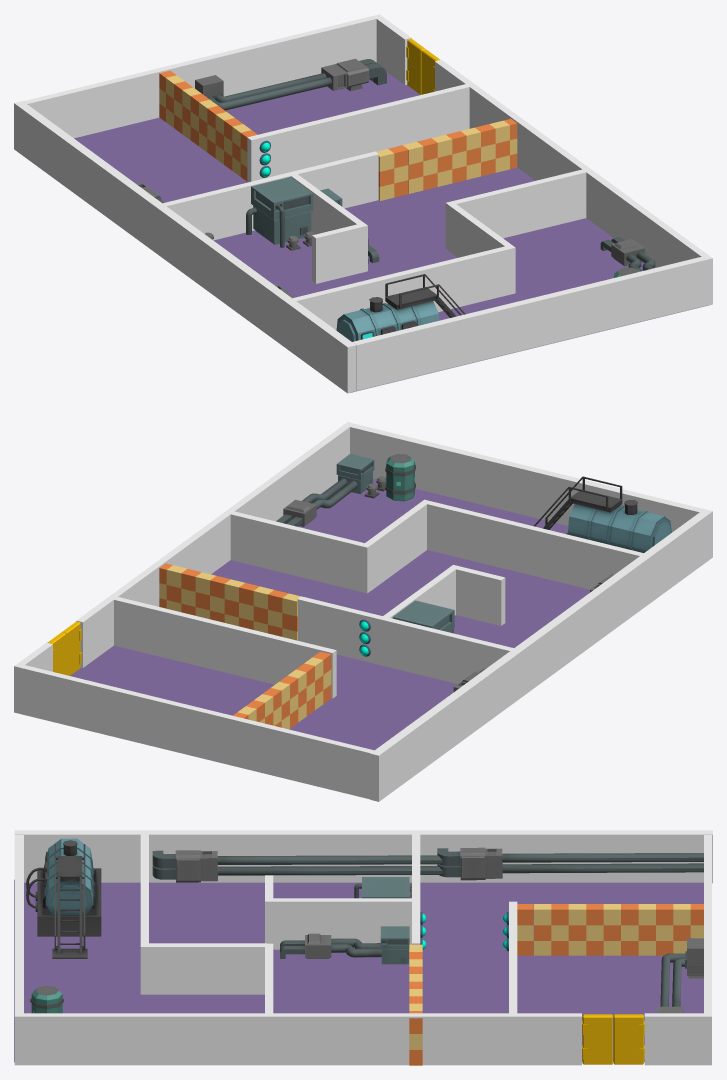
Rendered from maps_41.fbx.
The picture shows the model from 3 angles, top to bottom: view 1: azimuth 30°, elevation 25°; view 2: azimuth 150°, elevation 25°; view 3: azimuth 270°, elevation 25°; orthographic projection. The views are drawn at different scales.
Visible parts, largest first — view 1: wall_01_08_geo, wall_01_07_geo, wall_01_05_geo, wall_01_09_geo, wall_01_09_geo6, wall_01_06_geo, wall_01_09_geo3, wall_01_09_geo4, wall_01_09_geo8, tankwater_geo, generatorStation_03_geo1, generatorStation_05_geo (+6 smaller); view 2: wall_01_08_geo, wall_01_07_geo, wall_01_09_geo, wall_01_05_geo, wall_01_06_geo, wall_01_09_geo6, wall_01_09_geo3, wall_01_09_geo4, wall_01_09_geo8, tankwater_geo, wall_01_11_geo8, generatorStation_04_geo (+6 smaller); view 3: wall_01_08_geo, wall_01_06_geo, wall_01_07_geo, tankwater_geo, wall_01_11_geo8, generatorStation_03_geo3, generatorStation_03_geo2, wall_01_11_geo6, wall_01_06_geo1, generatorStation_04_geo2, generatorStation_03_geo1, wall_01_05_geo (+19 smaller).
Part boxes in pixels (bbox=[...]): wall_01_08_geo: bbox=[74, 72, 707, 392]; wall_01_07_geo: bbox=[14, 101, 356, 393]; wall_01_05_geo: bbox=[352, 257, 705, 391]; wall_01_09_geo: bbox=[23, 16, 376, 138]; wall_01_09_geo6: bbox=[247, 84, 469, 182]; wall_01_06_geo: bbox=[435, 60, 712, 306]; wall_01_09_geo3: bbox=[293, 246, 508, 330]; wall_01_09_geo4: bbox=[163, 151, 379, 240]; wall_01_09_geo8: bbox=[445, 169, 586, 250]; tankwater_geo: bbox=[336, 274, 465, 341]; generatorStation_03_geo1: bbox=[195, 58, 386, 110]; generatorStation_05_geo: bbox=[246, 177, 313, 247]; wall_01_08_geo: bbox=[70, 478, 589, 750]; wall_01_07_geo: bbox=[370, 509, 712, 801]; wall_01_09_geo: bbox=[20, 665, 373, 799]; wall_01_05_geo: bbox=[350, 423, 703, 532]; wall_01_06_geo: bbox=[76, 422, 353, 667]; wall_01_09_geo6: bbox=[114, 597, 336, 698]; wall_01_09_geo3: bbox=[427, 501, 643, 589]; wall_01_09_geo4: bbox=[297, 596, 513, 683]; wall_01_09_geo8: bbox=[230, 511, 370, 593]; tankwater_geo: bbox=[533, 476, 671, 552]; wall_01_11_geo8: bbox=[364, 499, 430, 590]; generatorStation_04_geo: bbox=[276, 453, 374, 526]; wall_01_08_geo: bbox=[14, 879, 703, 1062]; wall_01_06_geo: bbox=[14, 1013, 581, 1065]; wall_01_07_geo: bbox=[14, 830, 712, 883]; tankwater_geo: bbox=[26, 838, 101, 958]; wall_01_11_geo8: bbox=[140, 943, 266, 994]; generatorStation_03_geo3: bbox=[152, 850, 442, 882]; generatorStation_03_geo2: bbox=[437, 847, 703, 880]; wall_01_11_geo6: bbox=[273, 898, 411, 949]; wall_01_06_geo1: bbox=[644, 1013, 711, 1065]; generatorStation_04_geo2: bbox=[280, 926, 409, 964]; generatorStation_03_geo1: bbox=[657, 938, 703, 1013]; wall_01_05_geo: bbox=[14, 835, 23, 1013].
Bounding box in the file's own units: 73.43 × 13.25 × 116.
7 materials, 7 textured.
